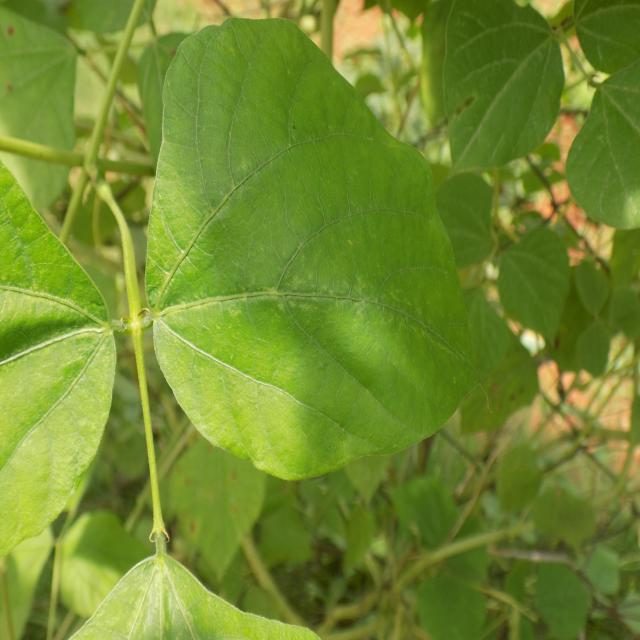Dolicos bean_healthy: (143, 15, 523, 486)
